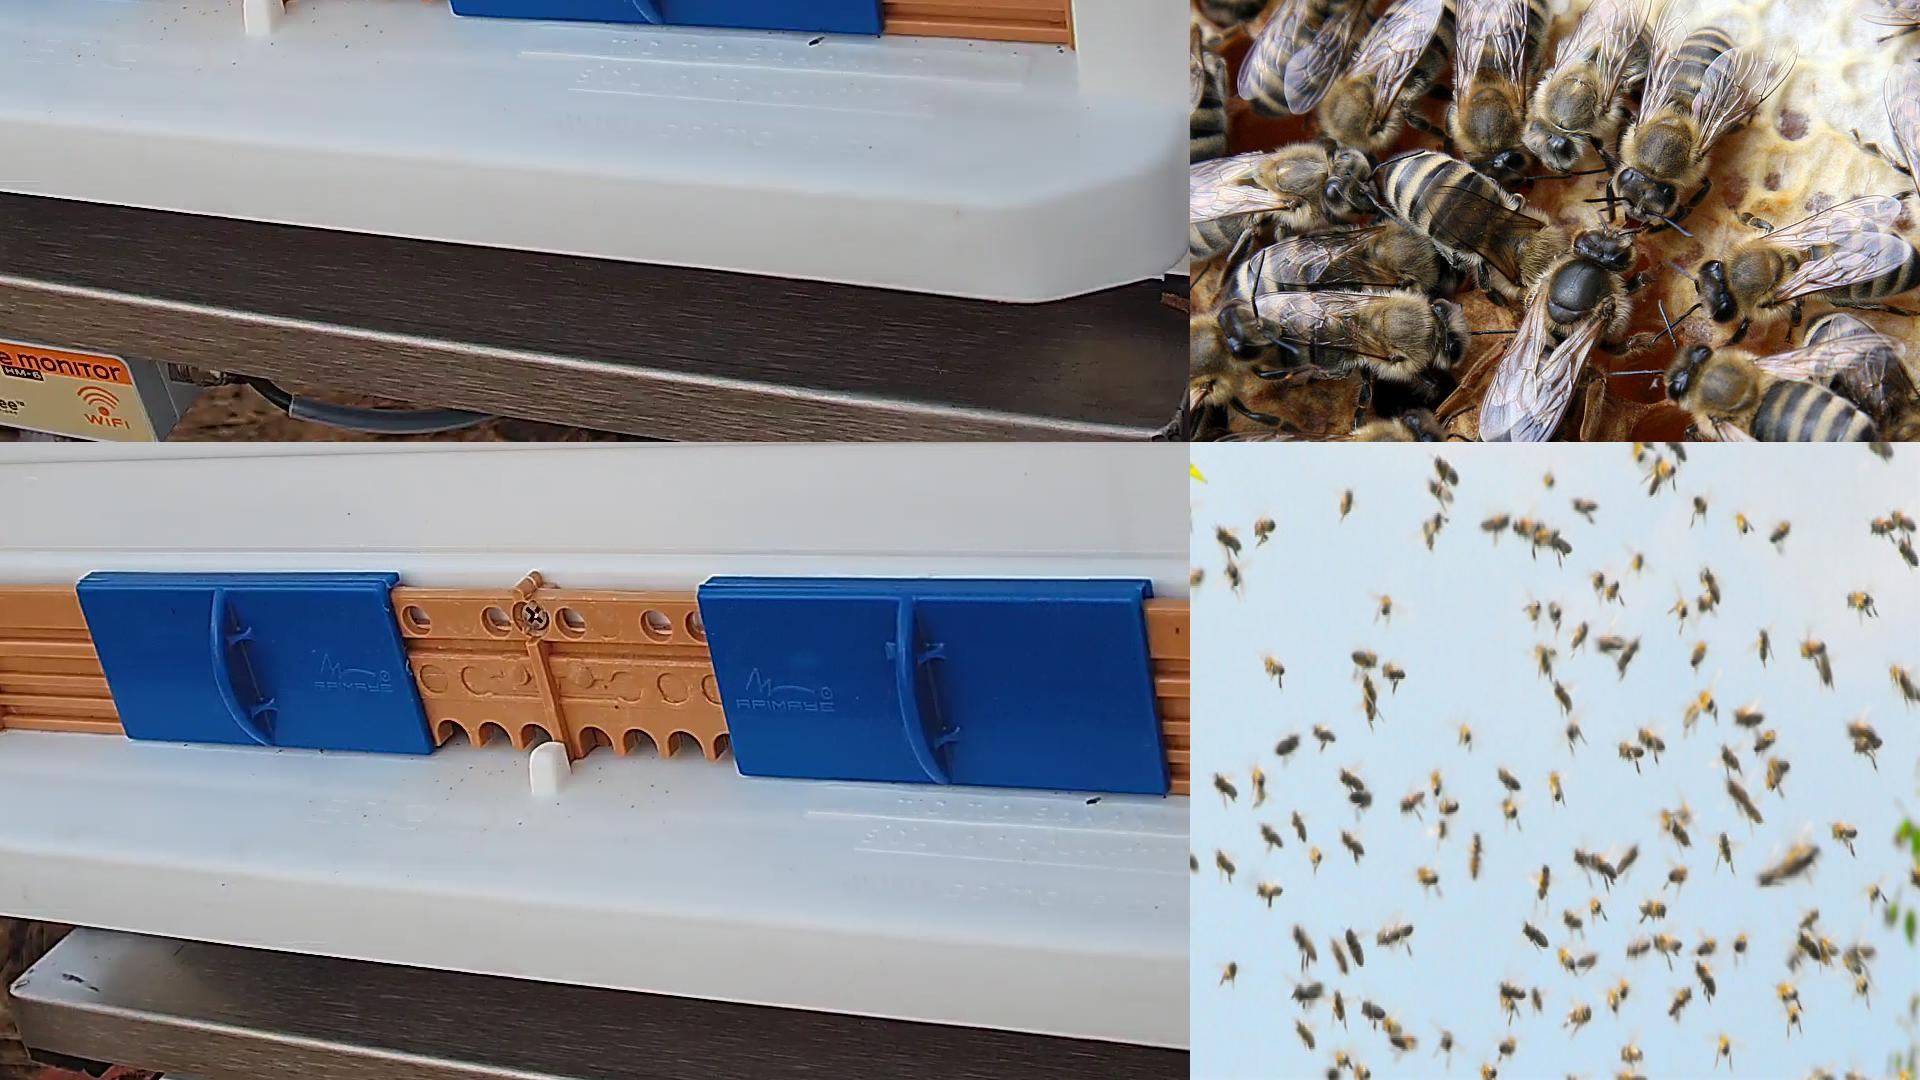bee: (1333, 0, 1470, 154), (1381, 150, 1563, 264), (1627, 26, 1734, 219), (1698, 229, 1919, 320), (1189, 149, 1374, 257), (1673, 352, 1884, 440), (1531, 16, 1651, 161), (1249, 0, 1377, 117), (1462, 0, 1547, 170), (1807, 313, 1919, 440), (1254, 298, 1465, 364), (1236, 235, 1468, 293), (1189, 306, 1263, 440), (1189, 7, 1232, 161), (1892, 69, 1919, 258), (1205, 0, 1291, 18), (1891, 665, 1919, 700), (1294, 924, 1317, 960), (1695, 960, 1716, 994), (1792, 844, 1820, 868), (1850, 724, 1883, 744), (1796, 931, 1818, 960), (1759, 864, 1789, 885), (1345, 930, 1362, 967), (1741, 796, 1763, 824), (1669, 986, 1692, 1014), (1618, 844, 1639, 873), (1341, 829, 1365, 855), (1436, 455, 1457, 483), (1524, 923, 1548, 947), (1590, 856, 1615, 878), (1216, 526, 1241, 549), (1296, 1019, 1315, 1050), (1364, 678, 1377, 720), (1572, 851, 1598, 872), (1648, 456, 1663, 495), (1768, 760, 1788, 787), (1424, 514, 1444, 542), (1899, 541, 1919, 568), (1845, 944, 1876, 961), (1618, 640, 1636, 669), (1511, 520, 1540, 538), (1498, 767, 1520, 791), (1891, 510, 1916, 531), (1340, 771, 1366, 791), (1292, 810, 1308, 843), (1654, 936, 1681, 955), (1556, 679, 1572, 711), (1755, 729, 1776, 753), (1390, 924, 1414, 945), (1671, 823, 1691, 848), (1254, 767, 1267, 804), (1639, 901, 1665, 919), (1294, 984, 1320, 1002), (1704, 572, 1720, 603), (1332, 940, 1346, 973), (1216, 775, 1237, 798), (1726, 779, 1747, 802), (1262, 824, 1283, 847), (1770, 520, 1791, 542), (1361, 1000, 1385, 1019), (1832, 822, 1857, 840), (1718, 831, 1733, 862), (1846, 593, 1873, 611), (1855, 737, 1875, 760), (1664, 442, 1687, 462), (1817, 938, 1832, 968), (1571, 621, 1586, 649), (1639, 731, 1663, 749), (1619, 741, 1643, 760), (1788, 944, 1804, 972), (1818, 655, 1833, 684), (1691, 641, 1706, 667), (1276, 735, 1298, 754), (1429, 481, 1451, 501), (1820, 936, 1840, 957), (1867, 442, 1894, 458), (1216, 849, 1234, 872), (1627, 940, 1650, 959), (1801, 638, 1825, 655), (1400, 793, 1424, 810), (1549, 771, 1563, 802), (1560, 948, 1576, 973), (1484, 514, 1509, 530), (1871, 520, 1896, 535), (1538, 865, 1549, 898), (1669, 862, 1688, 884), (1416, 866, 1437, 885), (1722, 746, 1739, 769), (1393, 1035, 1415, 1052), (1259, 882, 1283, 898), (1775, 984, 1799, 1000), (1568, 1006, 1592, 1022), (1538, 646, 1551, 674), (1316, 725, 1336, 744), (1472, 833, 1480, 880), (1799, 907, 1818, 926), (1697, 938, 1717, 956), (1332, 990, 1345, 1018), (1382, 1014, 1402, 1033), (1538, 530, 1557, 549), (1573, 498, 1598, 513), (1349, 791, 1370, 808), (1758, 629, 1768, 662), (1548, 600, 1561, 626), (1353, 651, 1377, 666), (1563, 910, 1582, 927), (1634, 442, 1654, 459), (1622, 1047, 1643, 1063), (1501, 984, 1526, 997), (1226, 560, 1240, 585), (1382, 665, 1404, 679), (1847, 951, 1862, 973), (1378, 927, 1396, 944), (1555, 537, 1572, 555), (1700, 691, 1716, 711), (1733, 934, 1749, 953), (1531, 986, 1543, 1011), (1683, 705, 1698, 724), (1265, 659, 1284, 674), (1502, 799, 1516, 819), (1597, 637, 1623, 647), (1440, 798, 1458, 812), (1501, 993, 1515, 1011), (1607, 579, 1619, 601), (1528, 599, 1540, 621), (1738, 713, 1763, 724), (1341, 489, 1352, 514), (1254, 520, 1275, 531), (1354, 1064, 1371, 1079), (1578, 955, 1597, 968), (1567, 721, 1578, 741), (1432, 770, 1441, 795), (1660, 808, 1669, 833), (1590, 895, 1601, 916), (1381, 593, 1391, 615), (1460, 725, 1472, 744), (1441, 1031, 1453, 1050), (1720, 1035, 1731, 1054), (1222, 963, 1237, 977), (1189, 570, 1204, 584), (1335, 1052, 1350, 1065), (1737, 513, 1747, 533), (1697, 597, 1713, 611), (1676, 597, 1687, 616), (1662, 467, 1675, 481), (1855, 978, 1867, 994), (1680, 799, 1688, 822), (1610, 989, 1618, 1011), (1693, 498, 1706, 512), (1869, 885, 1880, 899), (1482, 1067, 1498, 1077), (1633, 553, 1642, 570), (1501, 1042, 1513, 1055), (1325, 1068, 1338, 1080), (1309, 848, 1320, 862), (1437, 820, 1445, 839), (1594, 572, 1604, 588), (1189, 855, 1197, 872), (1621, 978, 1629, 996), (1788, 1006, 1797, 1021), (1545, 473, 1553, 485)
queen: (1472, 229, 1635, 440)
